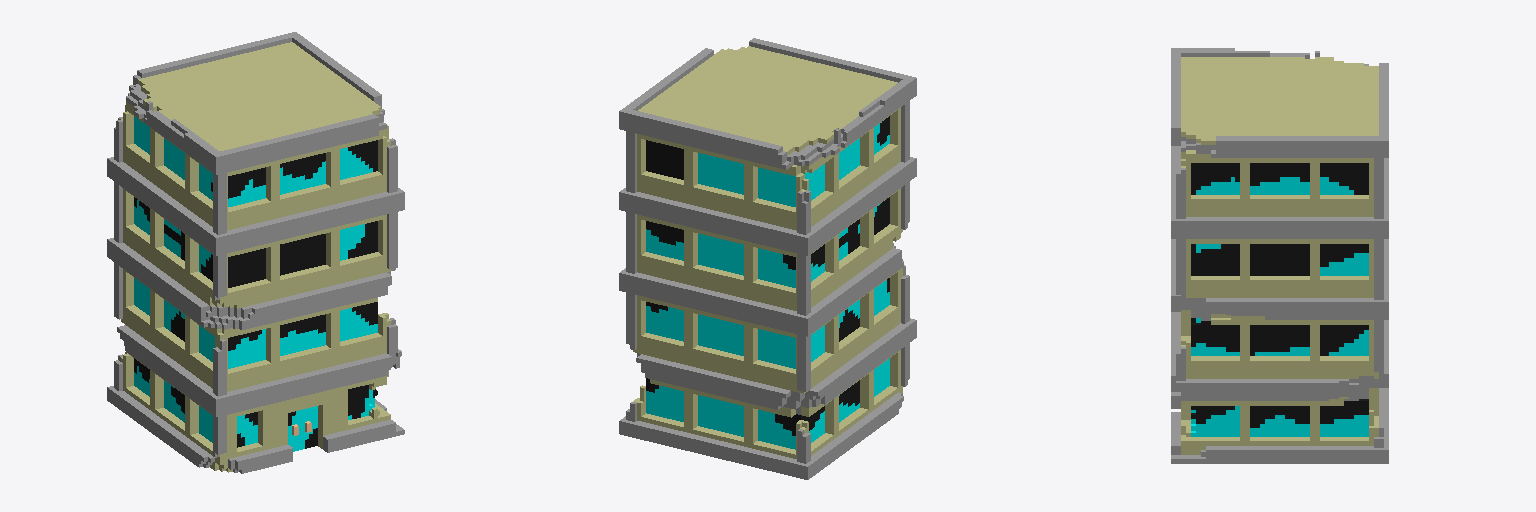
3 views of the same model, side by side, from view 1: azimuth 30°, elevation 25°; view 2: azimuth 150°, elevation 25°; view 3: azimuth 270°, elevation 25° (orthographic).
Visible parts, largest first — view 1: object 1; view 2: object 1; view 3: object 1.
Boxes of the visible parts, <box> form: object 1: <box>107,32,404,473</box>; object 1: <box>619,38,916,479</box>; object 1: <box>1171,48,1388,463</box>.
Size of the model in its own units: 4.4 by 7.2 by 4.4.
1 materials, 1 textured.